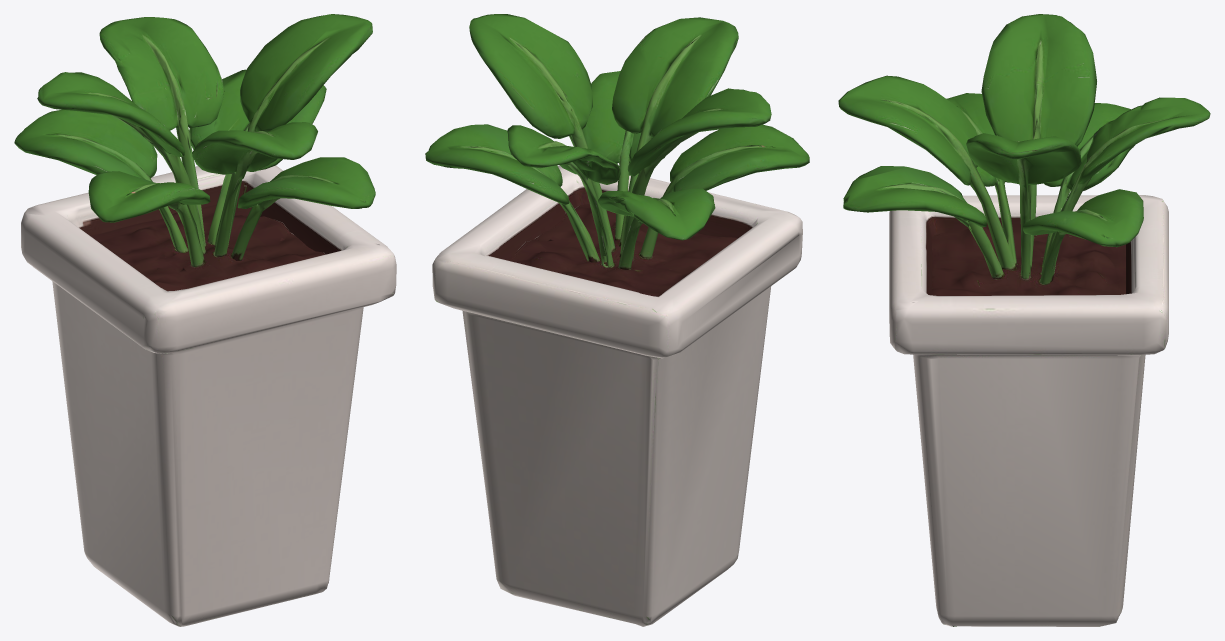
Rendered from potted-greenery.glb.
3 views of the same model, side by side, from view 1: azimuth 30°, elevation 25°; view 2: azimuth 150°, elevation 25°; view 3: azimuth 270°, elevation 25° (orthographic). The views are drawn at different scales.
Size of the model in its own units: 0.5923 by 0.9507 by 0.6187.
1 material, 1 textured.
